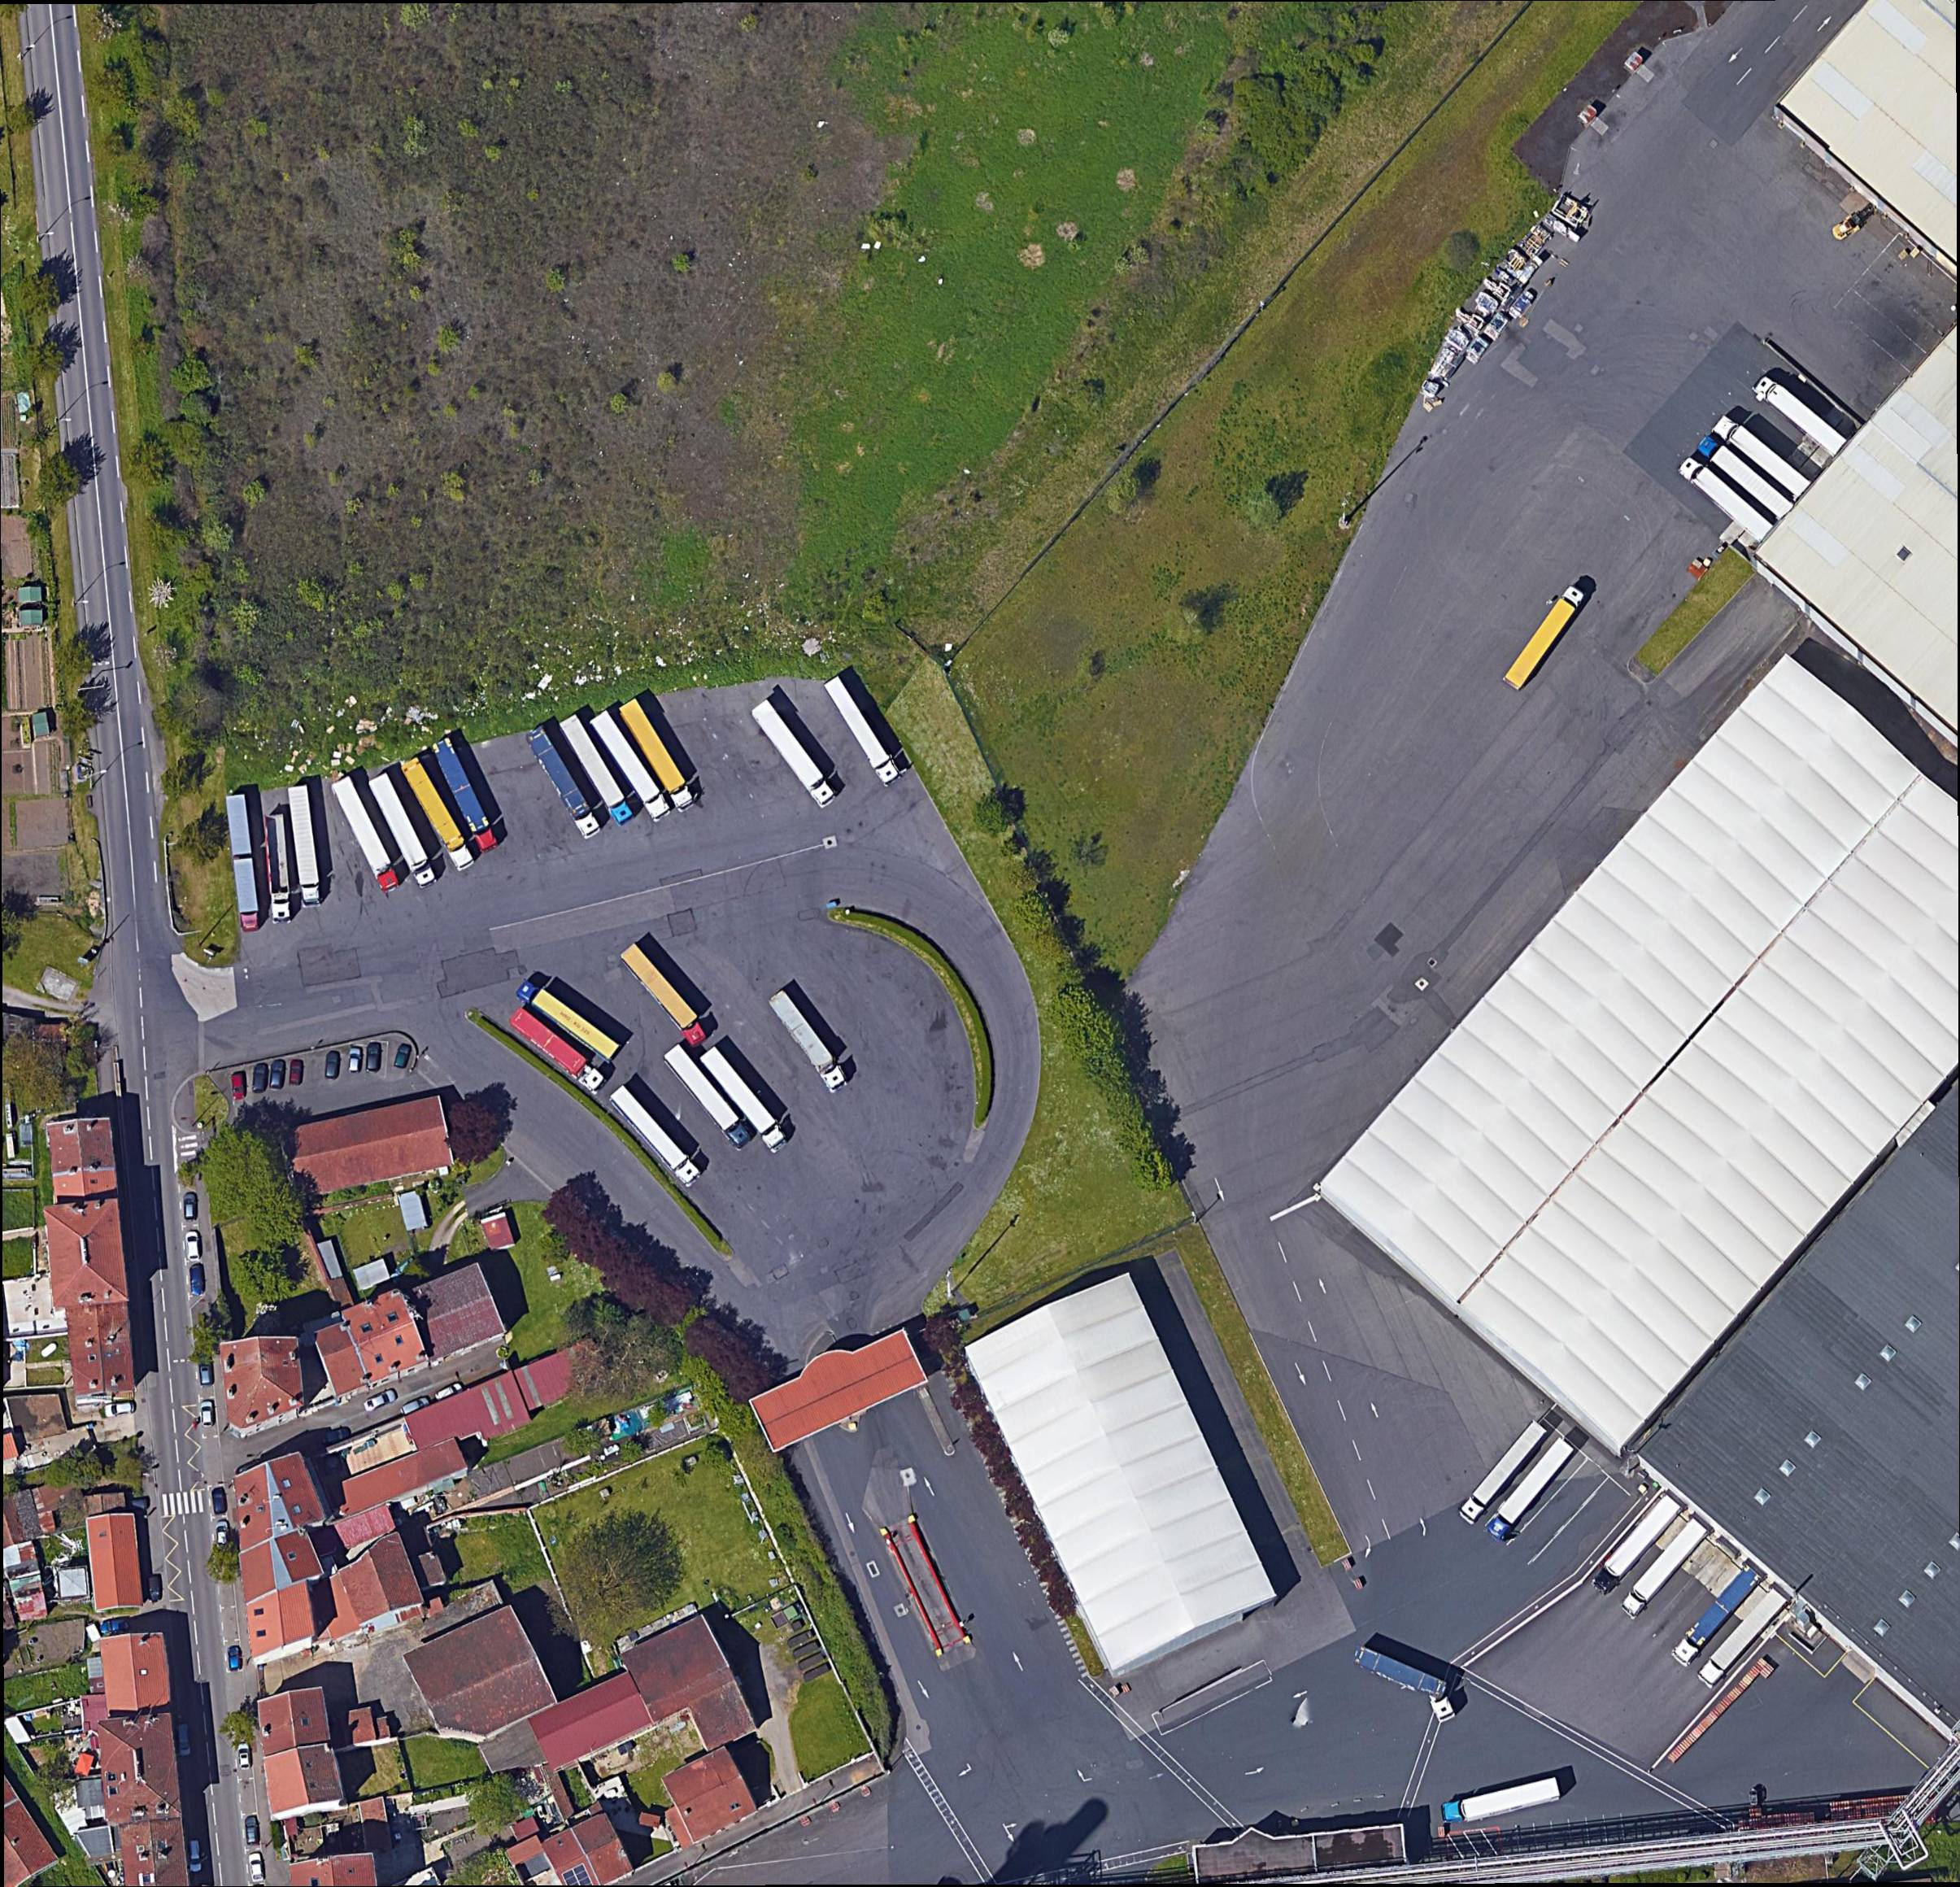large vehicle: (1346, 1641, 1469, 1736), (1671, 1562, 1766, 1668), (1617, 1514, 1710, 1623), (660, 1041, 753, 1150), (621, 939, 712, 1047), (699, 1046, 791, 1153), (1457, 1418, 1547, 1527), (749, 698, 838, 808), (608, 1083, 703, 1186), (616, 696, 699, 813), (1696, 1586, 1788, 1692), (590, 711, 673, 822), (1592, 1492, 1682, 1595), (399, 756, 478, 874), (523, 726, 604, 839), (822, 675, 904, 787), (514, 978, 623, 1062), (1486, 1436, 1573, 1541), (1675, 455, 1776, 546), (1502, 584, 1587, 691), (1696, 433, 1797, 522), (1711, 413, 1812, 503), (766, 986, 849, 1093), (560, 711, 637, 826), (510, 1008, 609, 1096), (331, 774, 403, 893), (431, 737, 501, 852), (370, 773, 438, 888), (1753, 377, 1848, 457), (1441, 1776, 1564, 1828), (225, 793, 261, 930), (287, 786, 324, 909), (264, 813, 292, 924)
small vehicle: (361, 1386, 399, 1414), (317, 1424, 354, 1449), (433, 1379, 467, 1404), (398, 1395, 433, 1418), (102, 1398, 137, 1419), (246, 1850, 267, 1885), (187, 1262, 207, 1297), (184, 1228, 203, 1263), (268, 1058, 289, 1091), (187, 1837, 204, 1873), (365, 1041, 384, 1074), (100, 1616, 131, 1636), (393, 1042, 414, 1070), (176, 1723, 193, 1759), (211, 1485, 229, 1517), (250, 1063, 269, 1094), (230, 1070, 248, 1101), (146, 1574, 164, 1604), (243, 1815, 260, 1847), (182, 1191, 200, 1222), (199, 1399, 216, 1431), (324, 1049, 342, 1081), (237, 1741, 254, 1772), (214, 1518, 231, 1549), (226, 1645, 243, 1672), (347, 1046, 363, 1074), (288, 1059, 304, 1086), (198, 1362, 215, 1387)
